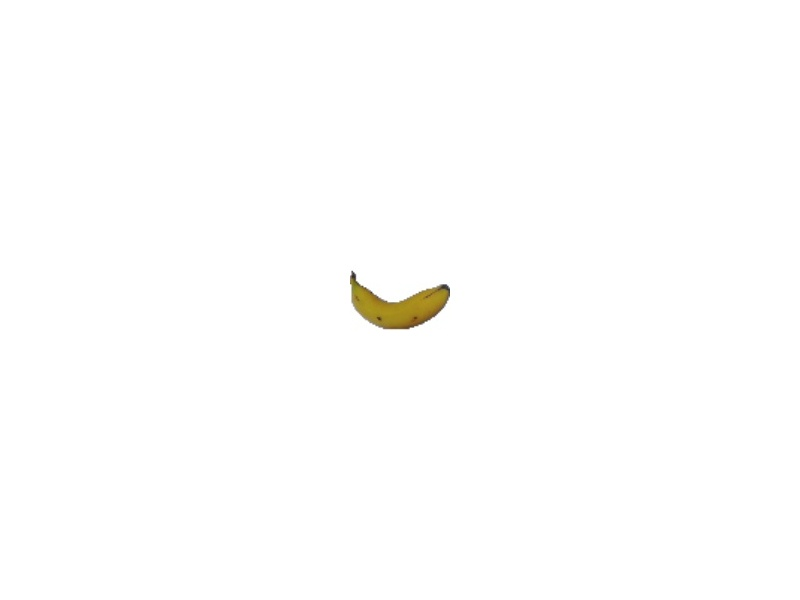banana: (347, 270, 452, 332)
